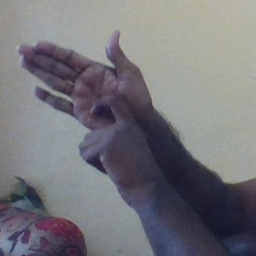R: (19, 24, 152, 173)
